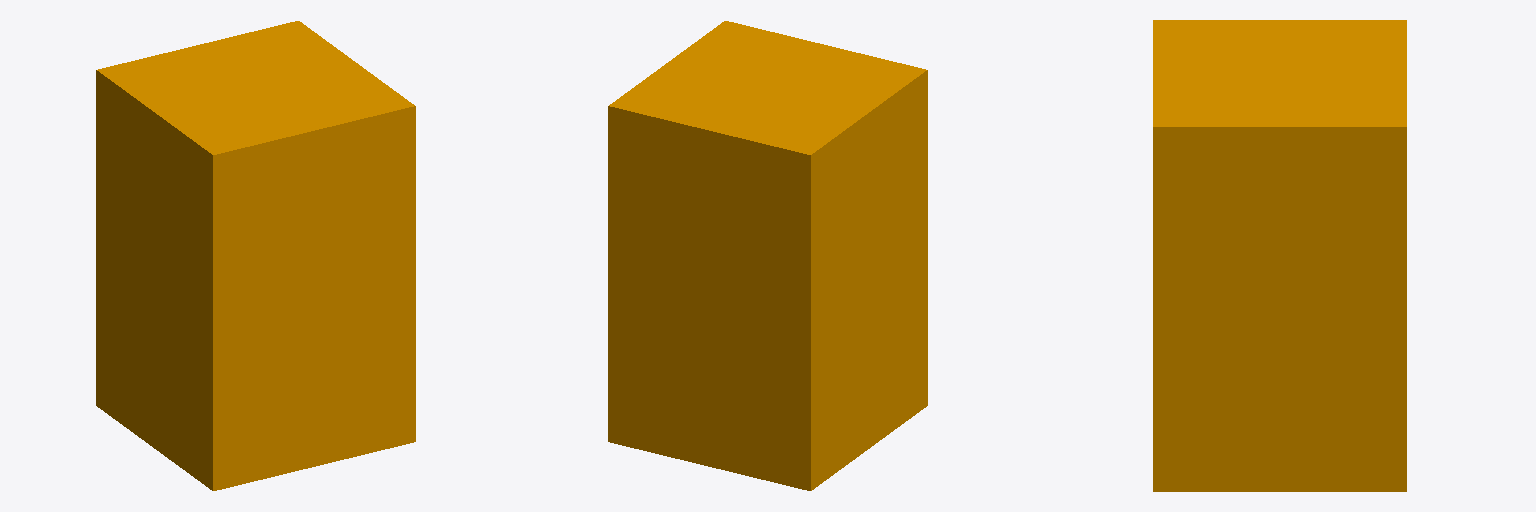
The robot description file, URDF, robot "03337140_2f449bf1b7eade5772594f16694be05_object":
<robot name="03337140_2f449bf1b7eade5772594f16694be05_object">
	<link name="_name">
		<visual>
			<origin xyz="2.9378235 -1.9602934999999995 0.9368065" rpy="0.0 0.0 0.0" />
			<geometry>
				<mesh filename="03337140_2f449bf1b7eade5772594f16694be05_object.obj" />
			</geometry>
		</visual>
		<collision>
			<origin rpy="0.0 0.0 0.0" xyz="2.9378235 -1.9602934999999995 0.9368065" />
			<geometry>
				<mesh filename="03337140_2f449bf1b7eade5772594f16694be05_object_vhacd.obj" />
			</geometry>
		</collision>
		<inertial>
			<origin rpy="0 0 0" xyz="0 0 0" />
			<mass value="1.0" />
			<inertia ixx="0.001" ixy="0.0" ixz="0.0" iyy="0.001" iyz="0.0" izz="0.001" />
		</inertial>
	</link>
</robot>

--- Facts derived from the render (not from the file) ---
The picture shows the robot from 3 angles, left to right: view 1: azimuth 30°, elevation 25°; view 2: azimuth 150°, elevation 25°; view 3: azimuth 270°, elevation 25°; orthographic projection.
Model 03337140_2f449bf1b7eade5772594f16694be05_object with 1 links and 0 joints (none), rooted at _name, posed every joint at zero.
Links seen in each view (by area): view 1: _name; view 2: _name; view 3: _name.
Link boxes in pixels (x1,y1,x2,y2): _name: (96, 21, 415, 490); _name: (608, 21, 927, 490); _name: (1153, 20, 1406, 491).
Size in the robot's own frame: 0.4529 by 0.4529 by 0.7189 metres.
Meshes: 1 distinct files referenced, 1 mesh visuals loaded (1 OBJ).
